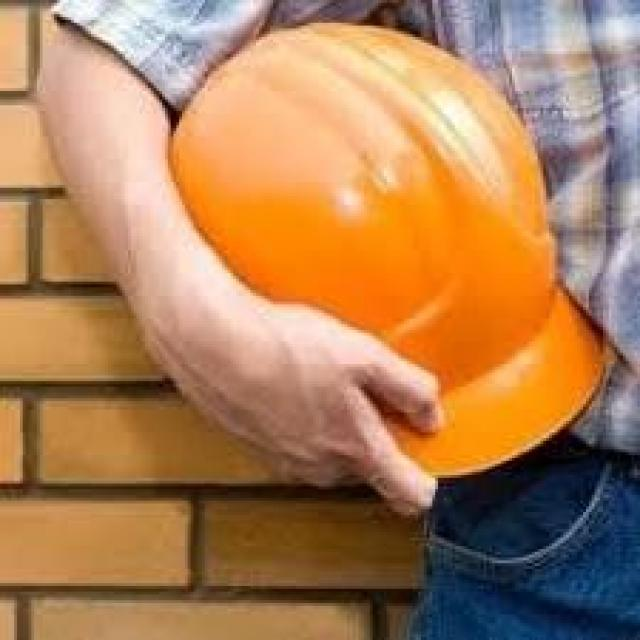Safety-Helmet: (156, 11, 626, 472)
